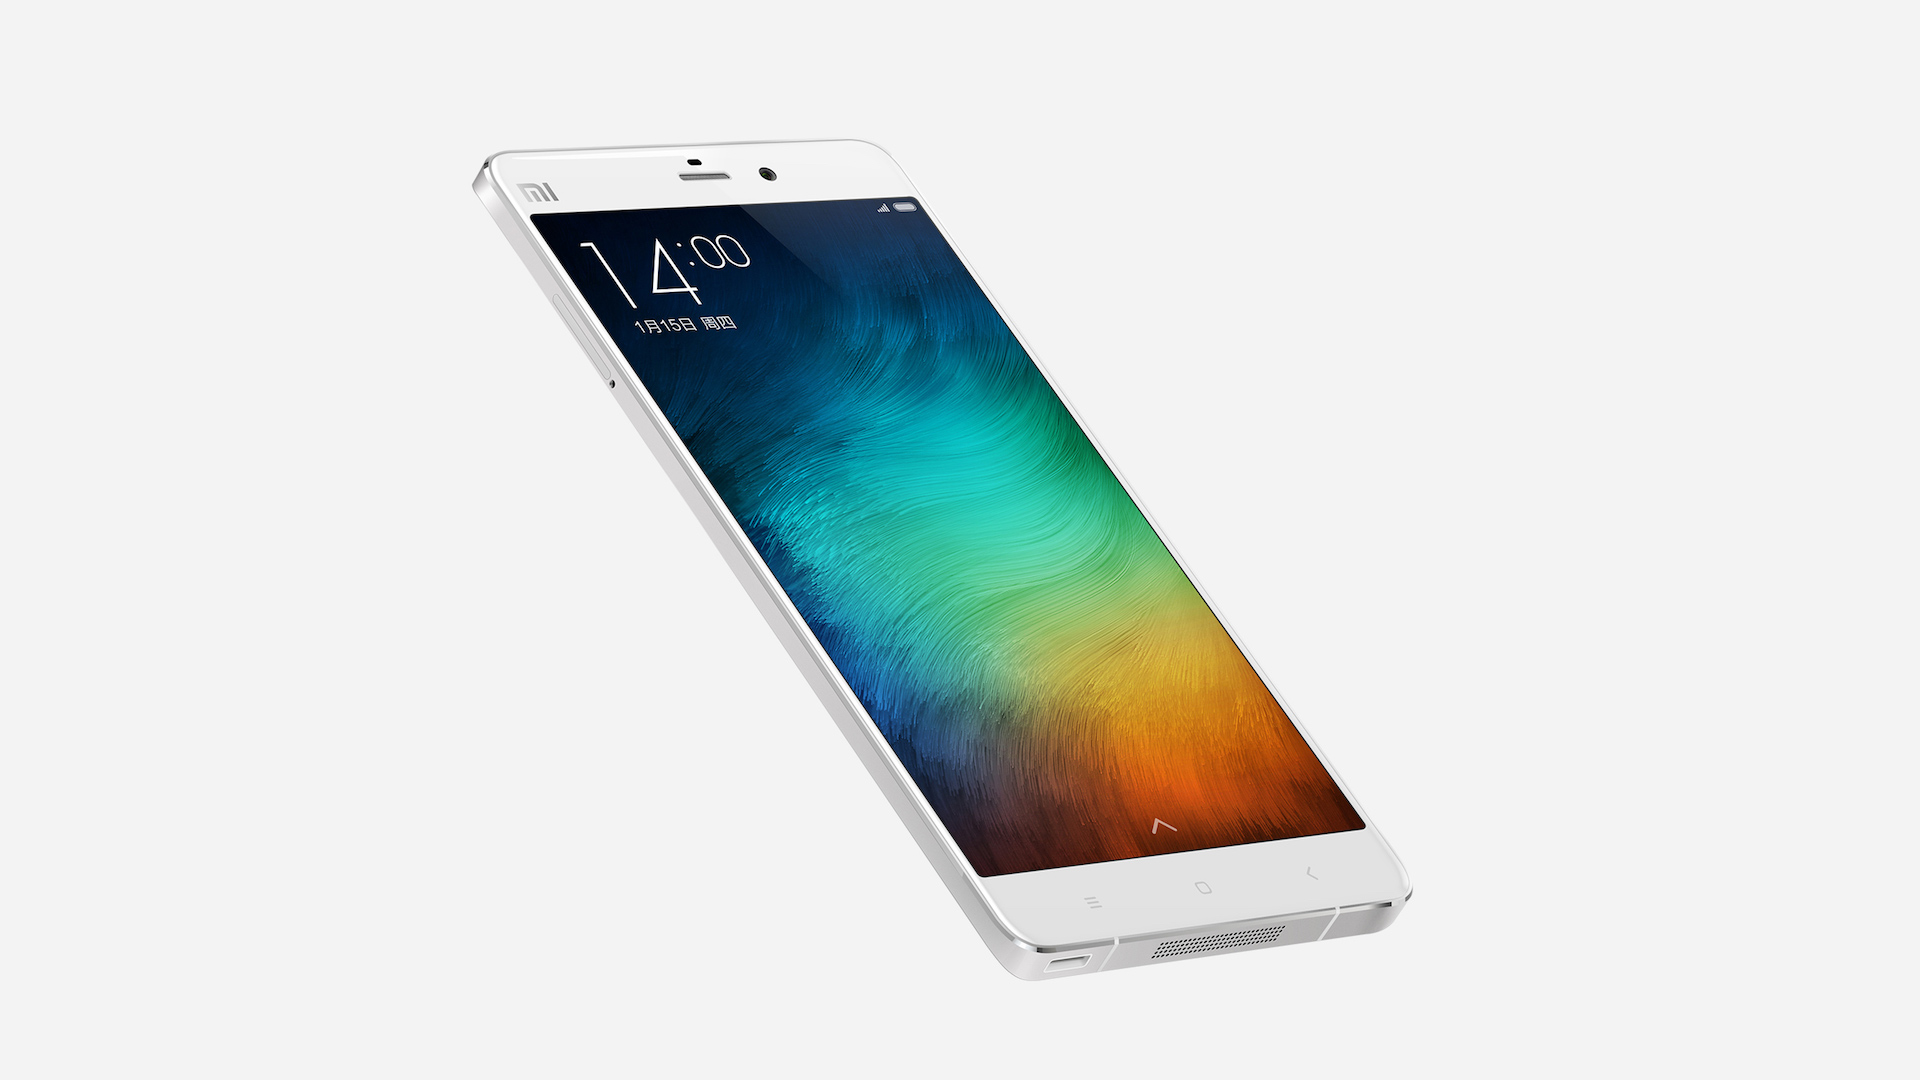smartphone: (473, 135, 1422, 984)
